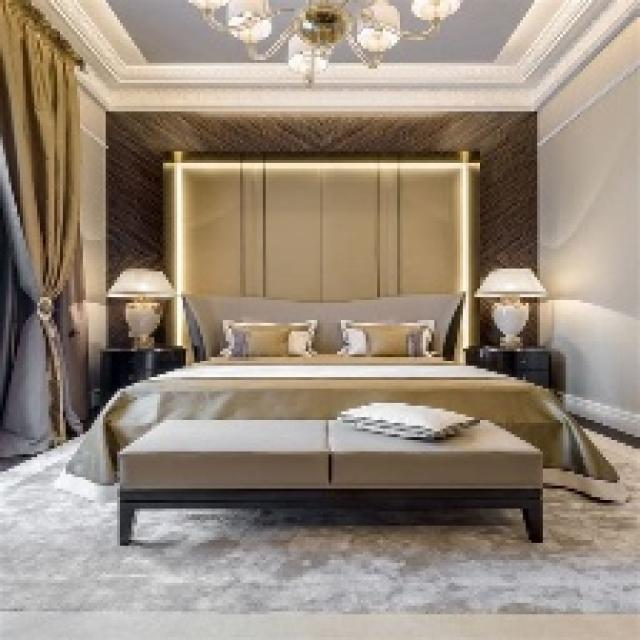Bed: (63, 288, 626, 503)
